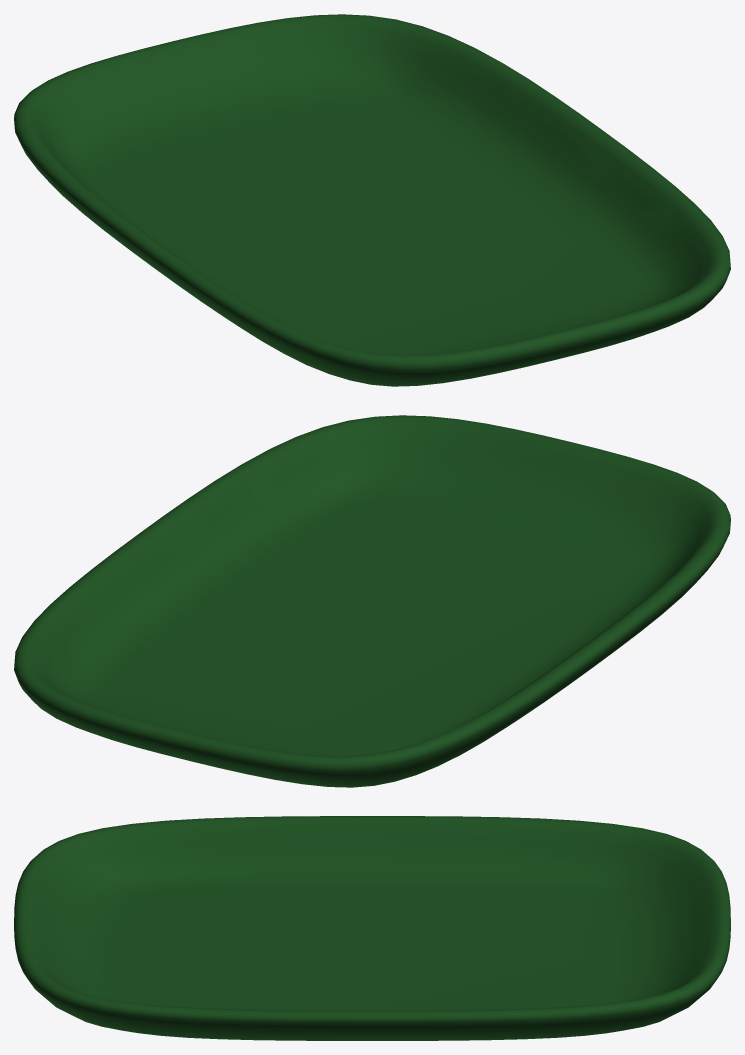
File: rolling_tray.glb
The picture shows the model from 3 angles, top to bottom: view 1: azimuth 30°, elevation 25°; view 2: azimuth 150°, elevation 25°; view 3: azimuth 270°, elevation 25°; orthographic projection. The views are drawn at different scales.
Parts seen in each view (by area): view 1: Rolling Tray_Yellow painted metal_0; view 2: Rolling Tray_Yellow painted metal_0; view 3: Rolling Tray_Yellow painted metal_0.
Boxes of the visible parts, x1,y1,x2,y2 form: Rolling Tray_Yellow painted metal_0: (14, 14, 730, 386); Rolling Tray_Yellow painted metal_0: (14, 415, 730, 787); Rolling Tray_Yellow painted metal_0: (14, 816, 730, 1040).
Size of the model in its own units: 0.3486 by 0.0436 by 0.5232.
